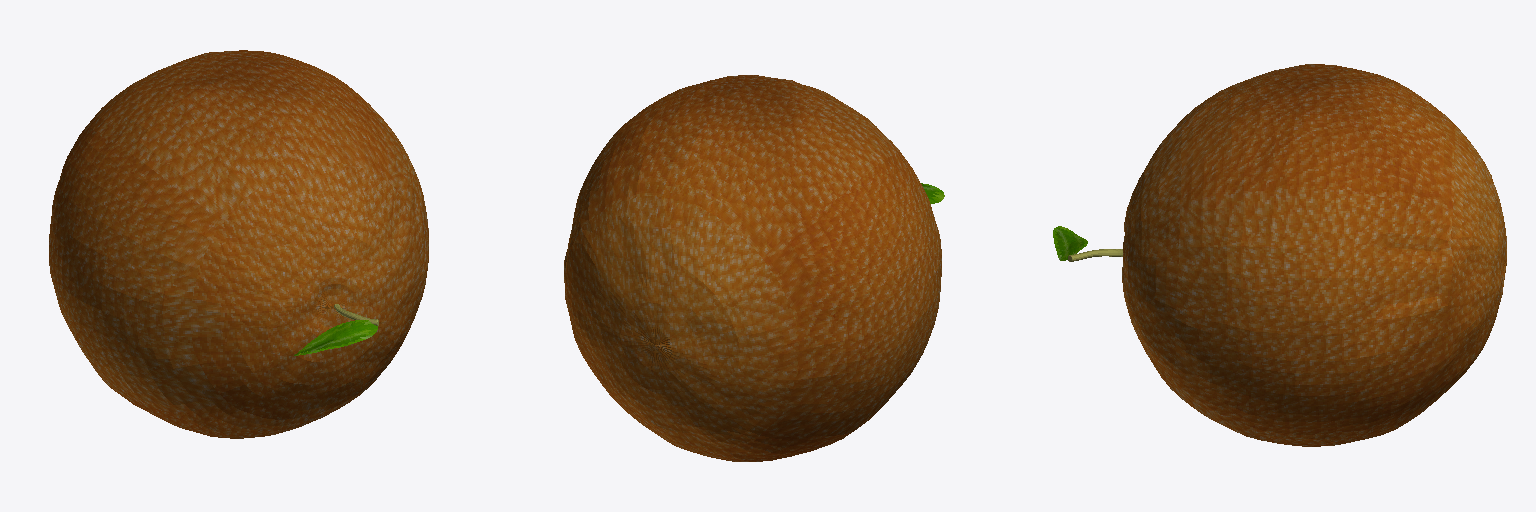
3 renders of one model, left to right at view 1: azimuth 30°, elevation 25°; view 2: azimuth 150°, elevation 25°; view 3: azimuth 270°, elevation 25°, orthographic.
Parts seen in each view (by area): view 1: Sphere001; view 2: Sphere001; view 3: Sphere001.
Part boxes in pixels (x1,y1,x2,y2): Sphere001: (49, 50, 428, 438); Sphere001: (564, 75, 944, 461); Sphere001: (1053, 64, 1506, 446).
Size of the model in its own units: 29.07 by 29.71 by 34.89.
Materials: 1 (1 with a texture image).